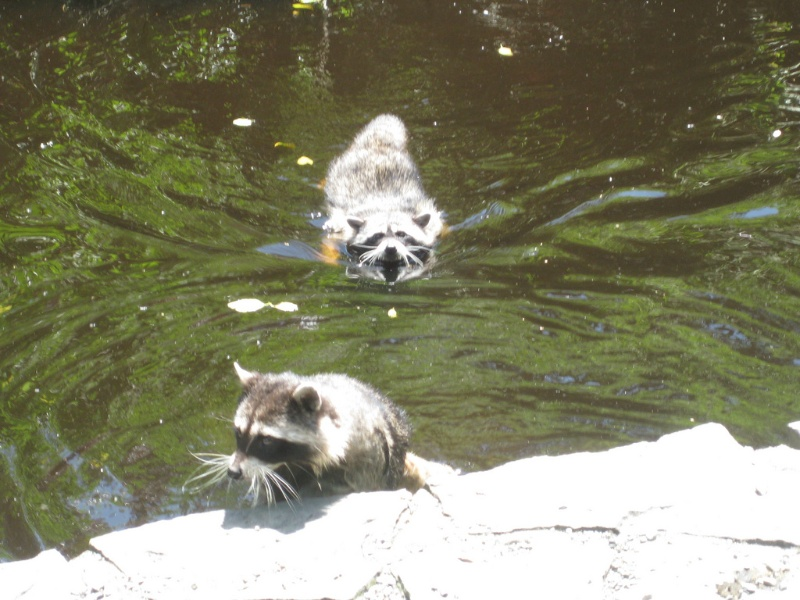raccoon: (209, 359, 467, 500), (322, 109, 441, 275)
